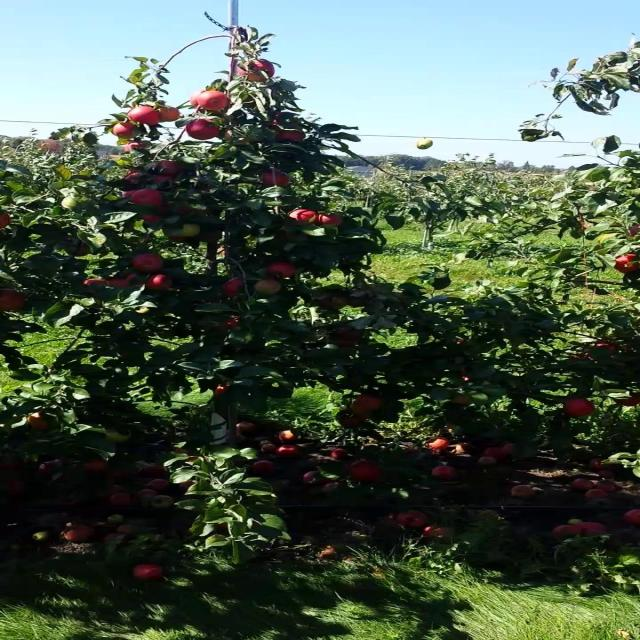apple: (241, 60, 277, 84), (184, 120, 220, 141), (198, 92, 235, 112), (561, 400, 597, 419), (333, 328, 364, 349), (127, 108, 160, 127), (348, 396, 384, 413), (134, 256, 165, 273), (589, 344, 619, 361), (134, 192, 165, 208), (561, 352, 594, 367), (269, 264, 299, 280), (262, 172, 292, 188), (340, 412, 370, 428), (170, 224, 201, 239), (319, 296, 350, 311), (255, 280, 284, 296), (156, 160, 185, 176), (156, 168, 185, 184), (148, 276, 176, 292), (6, 292, 28, 312), (291, 212, 320, 227), (156, 108, 183, 124), (220, 280, 245, 297), (28, 412, 52, 429), (113, 124, 137, 140), (120, 272, 144, 288), (568, 352, 594, 366), (276, 132, 306, 144), (618, 256, 639, 273), (106, 276, 133, 289), (447, 396, 476, 408), (163, 204, 192, 216), (618, 392, 638, 409), (212, 384, 235, 398), (269, 116, 290, 131), (319, 216, 345, 228), (141, 212, 165, 225), (127, 172, 148, 186), (220, 320, 244, 331), (170, 204, 192, 216), (127, 272, 144, 286), (141, 216, 165, 225), (84, 280, 105, 290), (177, 204, 194, 216), (127, 144, 149, 153), (156, 176, 176, 185), (191, 208, 210, 217), (120, 192, 135, 202)
